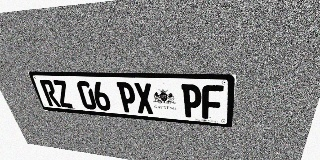0: (75, 81, 97, 110)
6: (90, 81, 112, 111)
F: (202, 85, 224, 120)
P: (116, 82, 138, 113), (181, 84, 201, 118)
R: (39, 80, 61, 107)
X: (133, 83, 154, 115)
Z: (52, 80, 74, 108)
